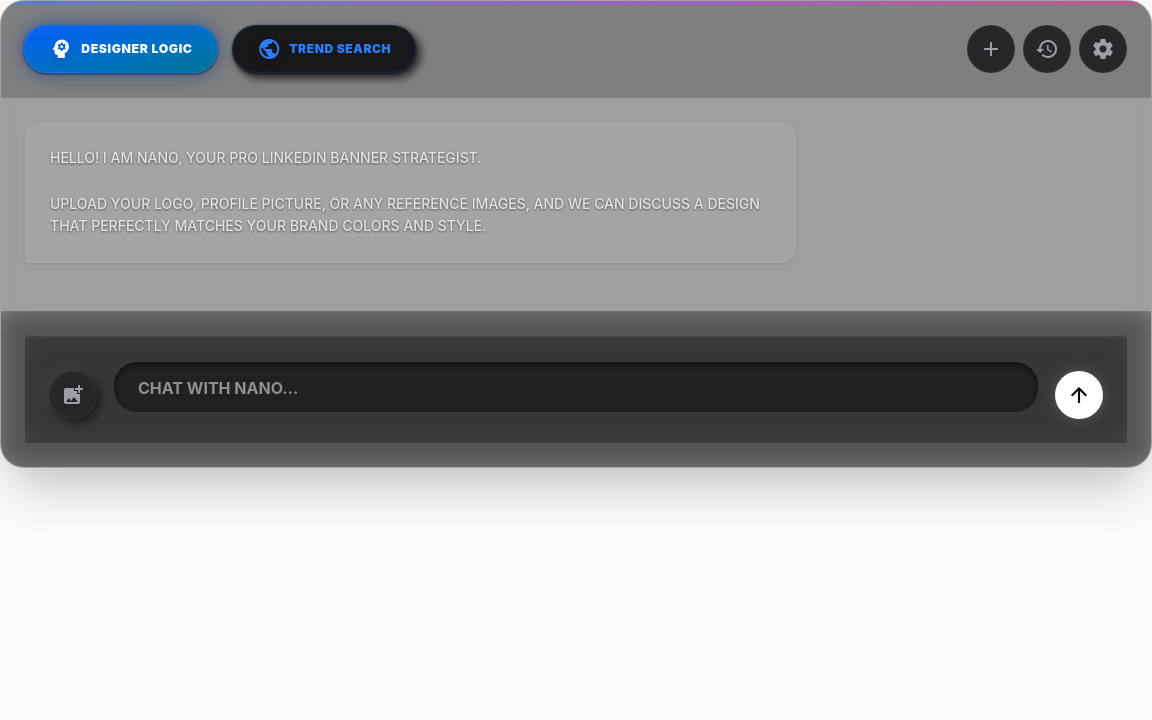
it: ChatInterface › Error Handling › should show API key error message on 401 unauthorized
In the text box with placeholder "CHAT WITH NANO...": x=576, y=387 [113,361,1039,413], type "Test message"
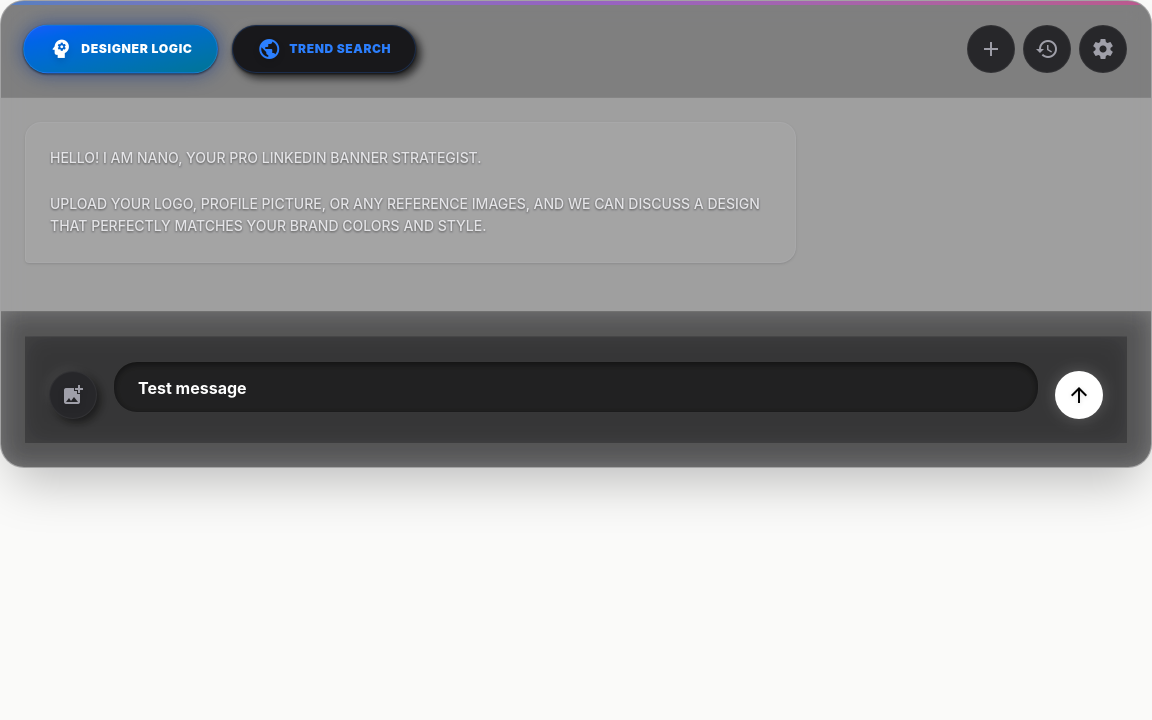
Click the 7th button: x=1079, y=395 [1055,371,1103,419]
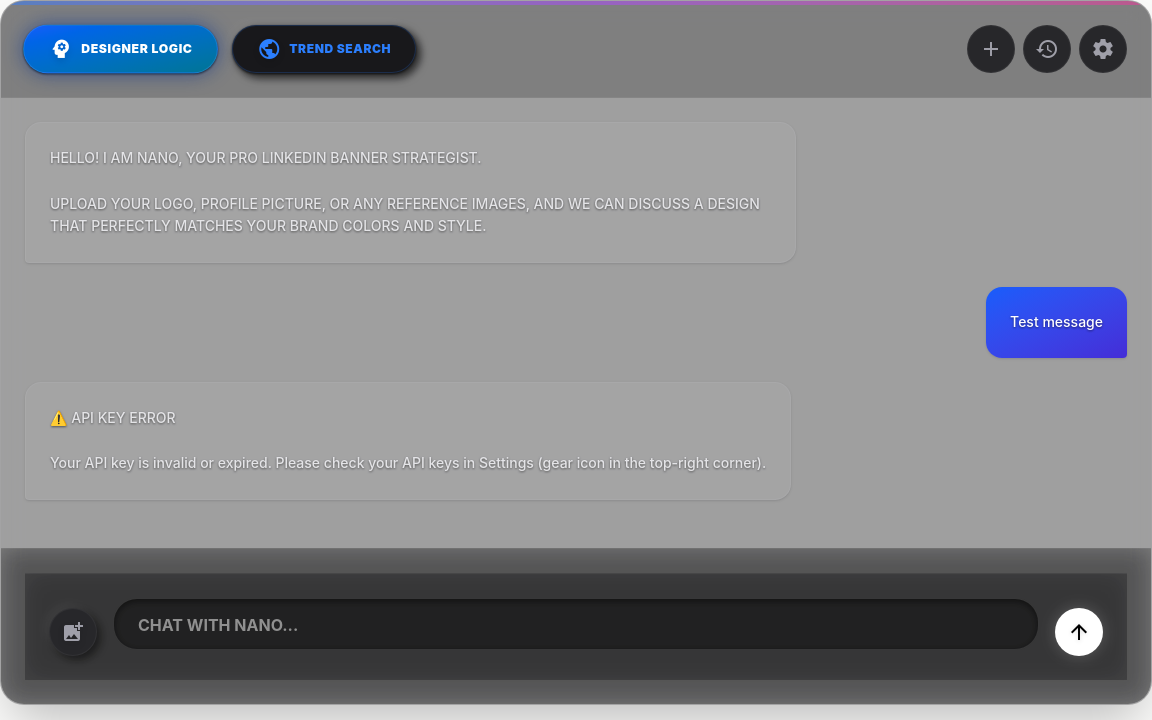
expect the text "invalid or expired" is shown: met, box [50,409,766,471]
